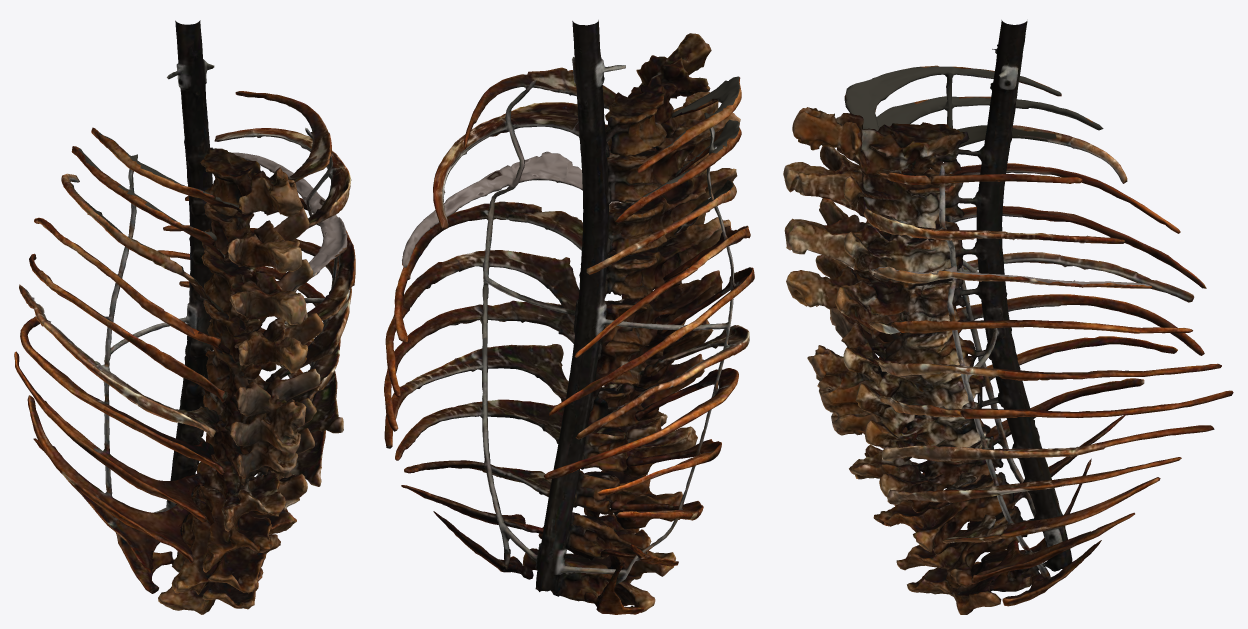
File: trex-p1-low.glb
3 views of the same model, side by side, from view 1: azimuth 30°, elevation 25°; view 2: azimuth 150°, elevation 25°; view 3: azimuth 270°, elevation 25° (orthographic). The views are drawn at different scales.
Bounding box in the file's own units: 1.14 × 2.26 × 1.58.
Materials: 1 (1 with a texture image).
